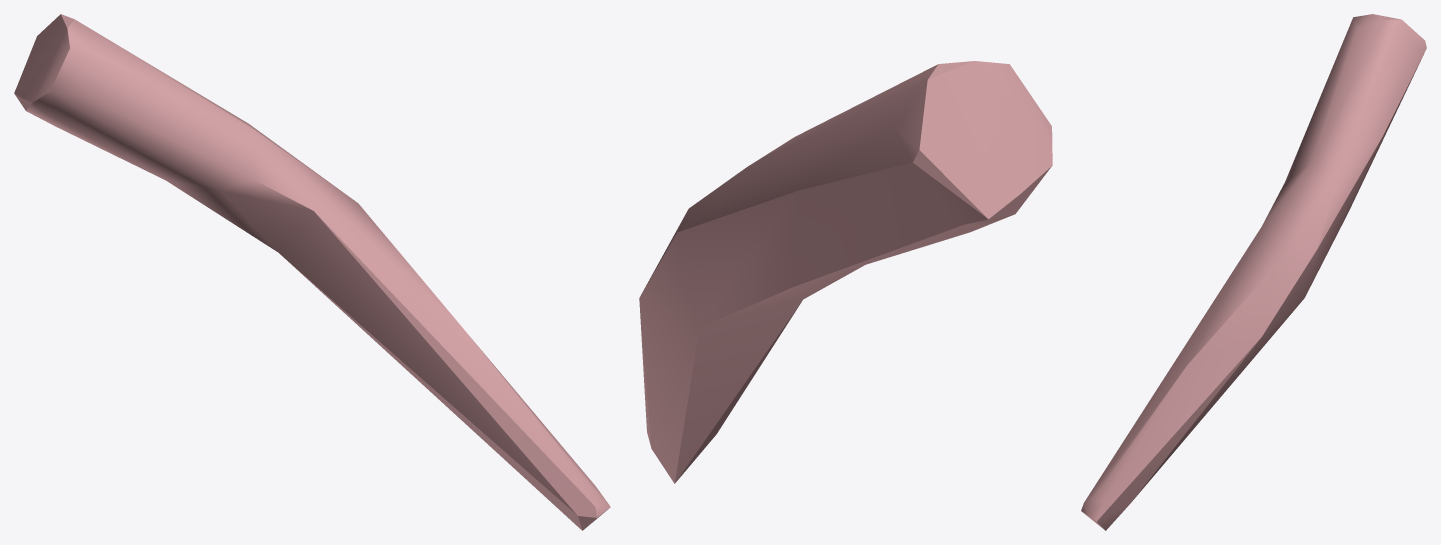
The model's file is fma68222_fj6498.glb.
3 views of the same model, side by side, from view 1: azimuth 30°, elevation 25°; view 2: azimuth 150°, elevation 25°; view 3: azimuth 270°, elevation 25° (orthographic). The views are drawn at different scales.
Visible parts, largest first — view 1: FMA68222_FJ6498; view 2: FMA68222_FJ6498; view 3: FMA68222_FJ6498.
Boxes of the visible parts, <box> form: FMA68222_FJ6498: <box>14,14,610,530</box>; FMA68222_FJ6498: <box>639,61,1052,483</box>; FMA68222_FJ6498: <box>1081,14,1426,530</box>.
Bounding box in the file's own units: 0.0157 × 0.0169 × 0.014.
